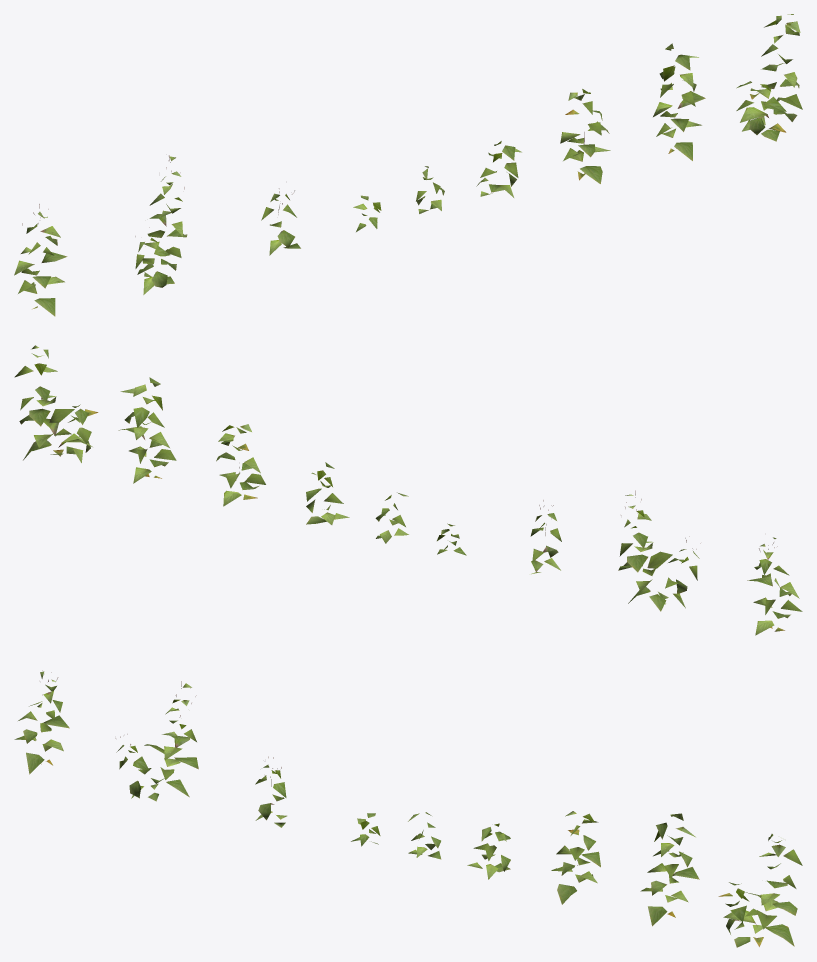
File: shrub.glb
The picture shows the model from 3 angles, top to bottom: view 1: azimuth 30°, elevation 25°; view 2: azimuth 150°, elevation 25°; view 3: azimuth 330°, elevation 25°; orthographic projection. The views are drawn at different scales.
Parts seen in each view (by area): view 1: shrub_01_a; view 2: shrub_01_a; view 3: shrub_01_a.
Part boxes in pixels (bbox=[...]): shrub_01_a: bbox=[14, 14, 802, 316]; shrub_01_a: bbox=[14, 345, 802, 635]; shrub_01_a: bbox=[14, 670, 802, 947].
Size of the model in its own units: 2.59 by 0.3801 by 0.2055.
Materials: 1 (1 with a texture image).
